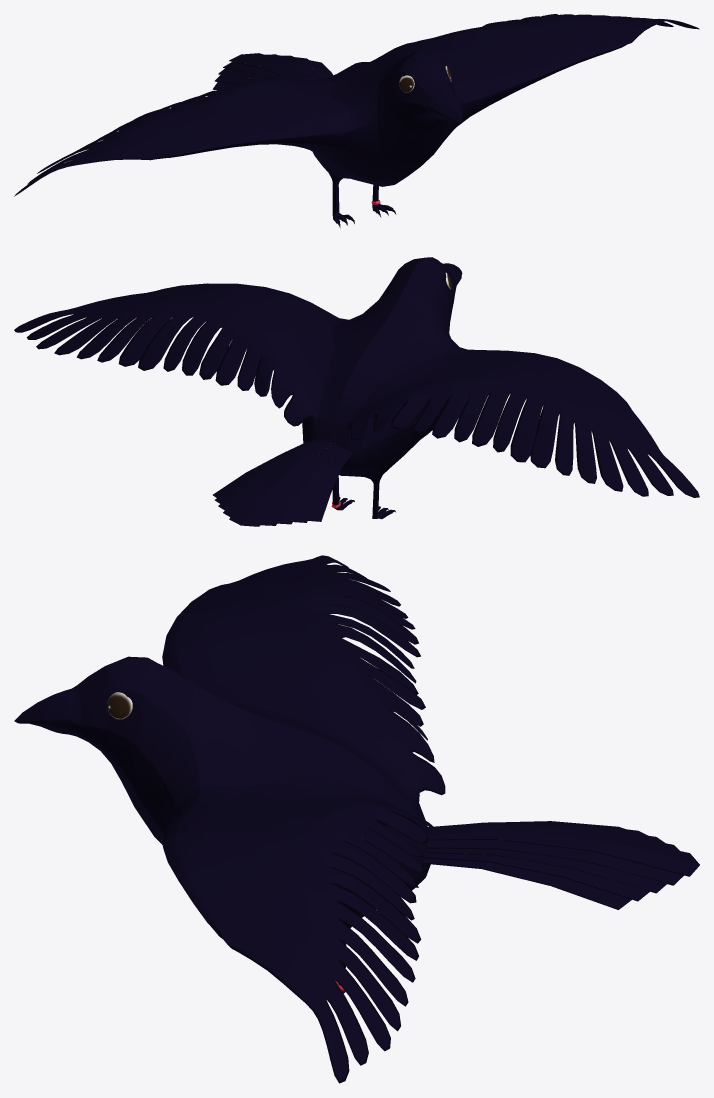
File: Crow_static.fbx
3 views of the same model, one above another, from view 1: azimuth 30°, elevation 25°; view 2: azimuth 150°, elevation 25°; view 3: azimuth 270°, elevation 25° (orthographic). The views are drawn at different scales.
Parts seen in each view (by area): view 1: Crow; view 2: Crow; view 3: Crow.
Part boxes in pixels (x1=…): Crow: x1=14, y1=14, x2=699, y2=228; Crow: x1=14, y1=257, x2=699, y2=526; Crow: x1=14, y1=555, x2=699, y2=1083.
Size of the model in its own units: 459 by 132 by 256.
